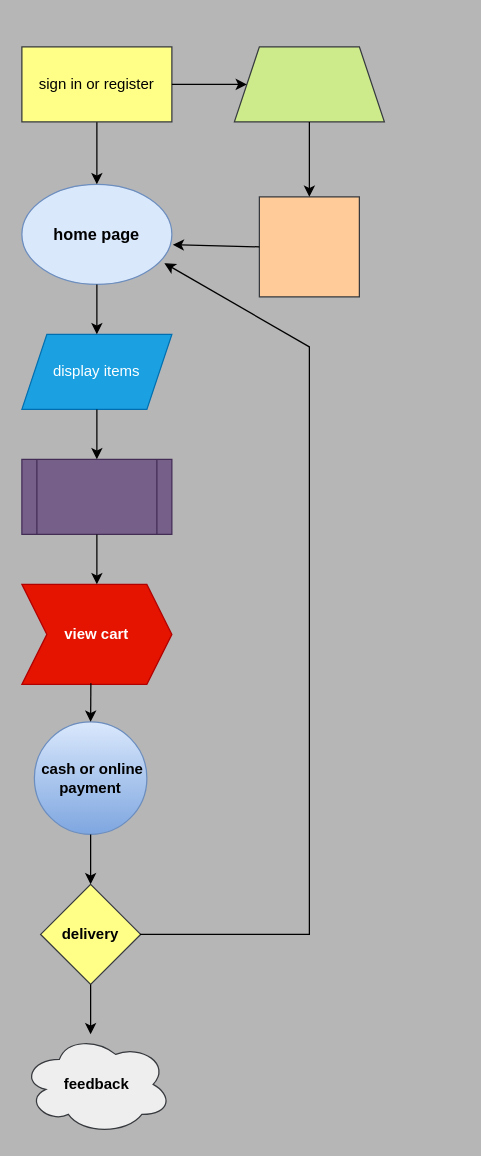
Image size: 481x1156. Some labels were removed from this diagram. Each missing label, with the centre of its shape:
"add to cart" belongs at (96,496).
"sign up" belongs at (308,84).
"user restration" belongs at (308,246).
